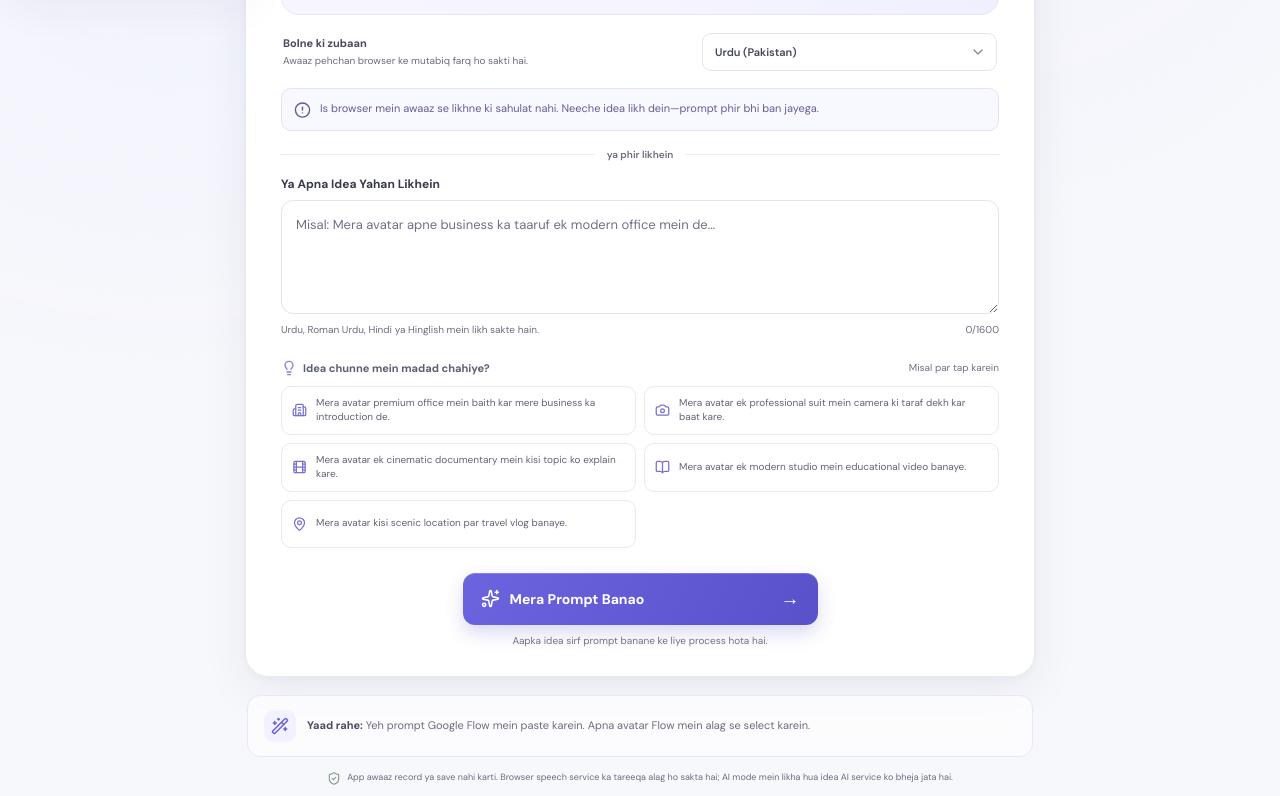
Test case: Flow Prompt Assistant workflow › turns a selected example into one prompt and copies only that prompt
(page scrolled)
Click the button "Mera avatar premium office ".
click(458, 410)  # box [281,386,636,434]
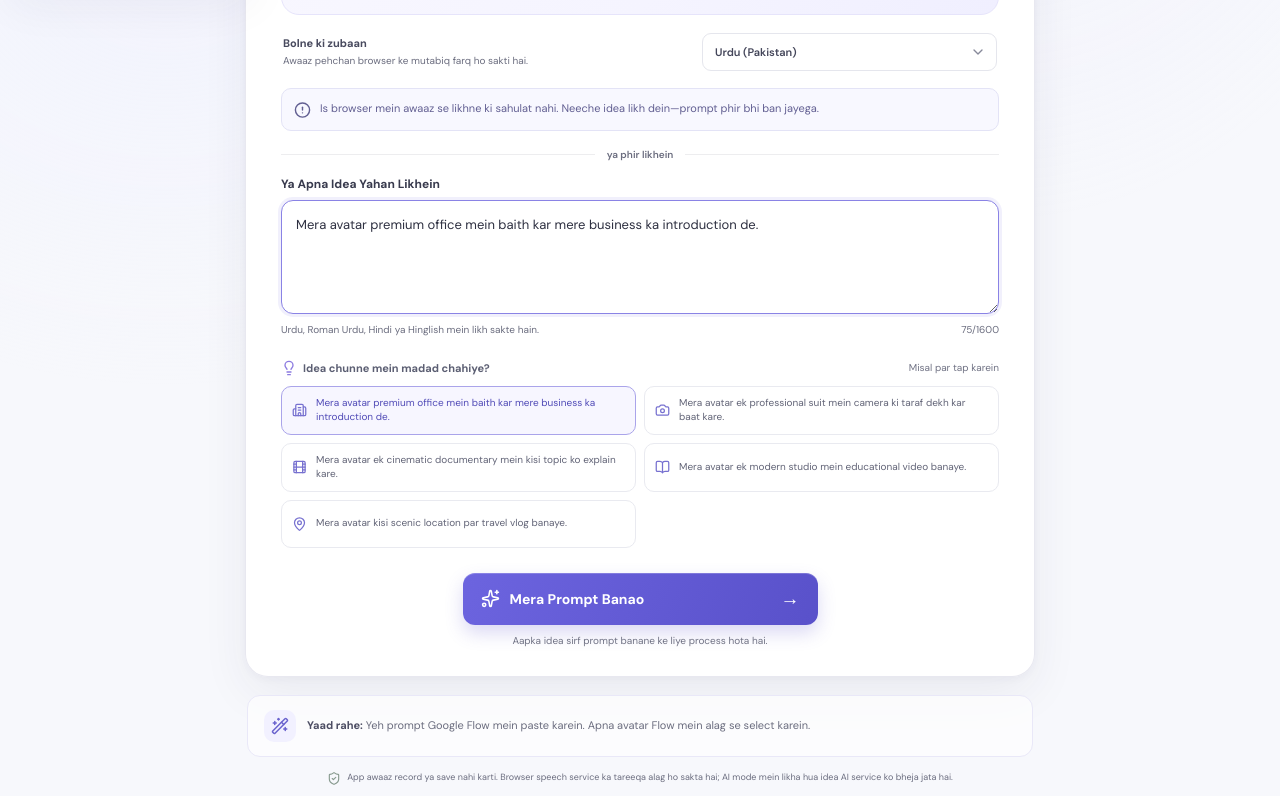
Now the text box labelled "Ya Apna Idea Yahan Likhein" holds "Mera avatar premium office mein baith kar mere business ka introduction de.", box [281,200,999,314]
Click the button "Mera Prompt Banao →".
click(640, 598)  # box [462,572,818,624]
(page scrolled)
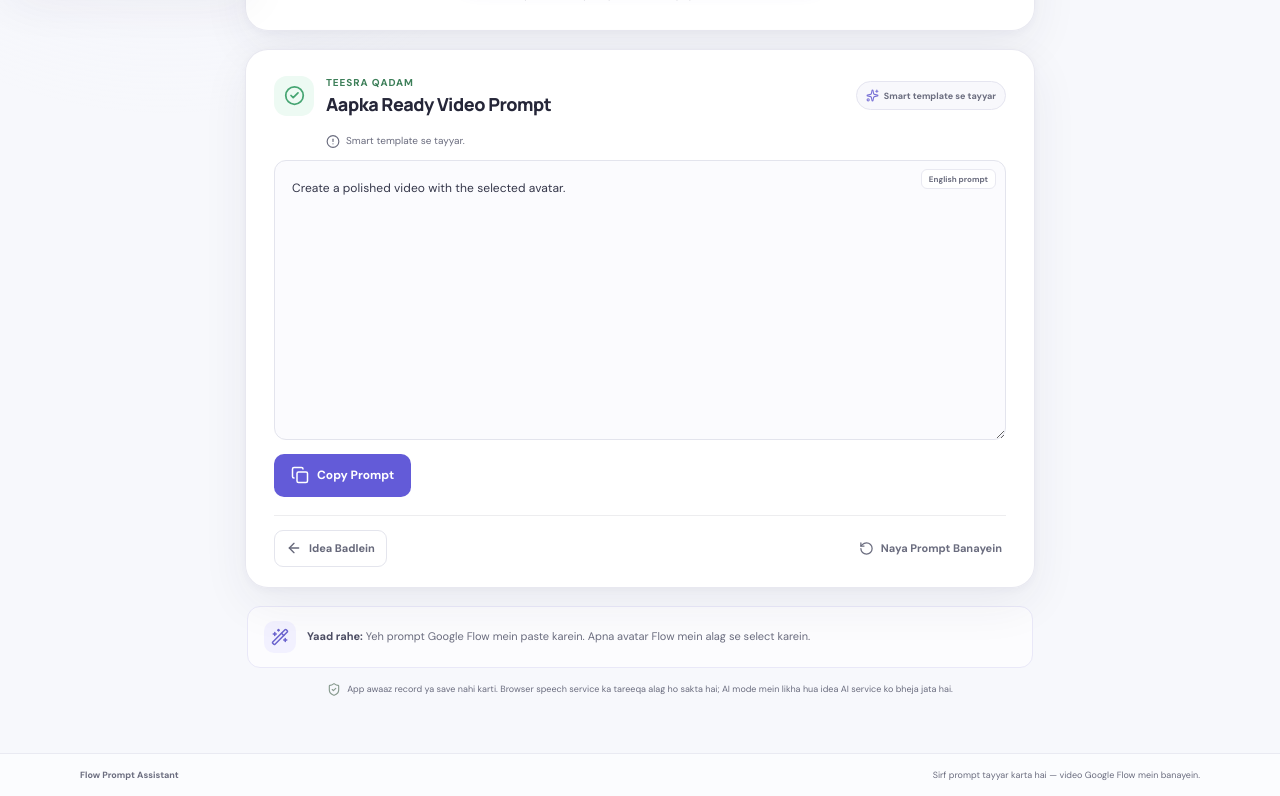
Now the heading "Aapka Ready Video Prompt" is shown, box [326,92,551,116]
Now the text box named "English video prompt" holds "Create a polished video with the selected avatar.", box [274,160,1006,440]
Now the text "Smart template se tayyar" is shown, box [856,81,1006,110]
Click the button "Copy Prompt".
click(343, 475)  # box [274,454,411,497]
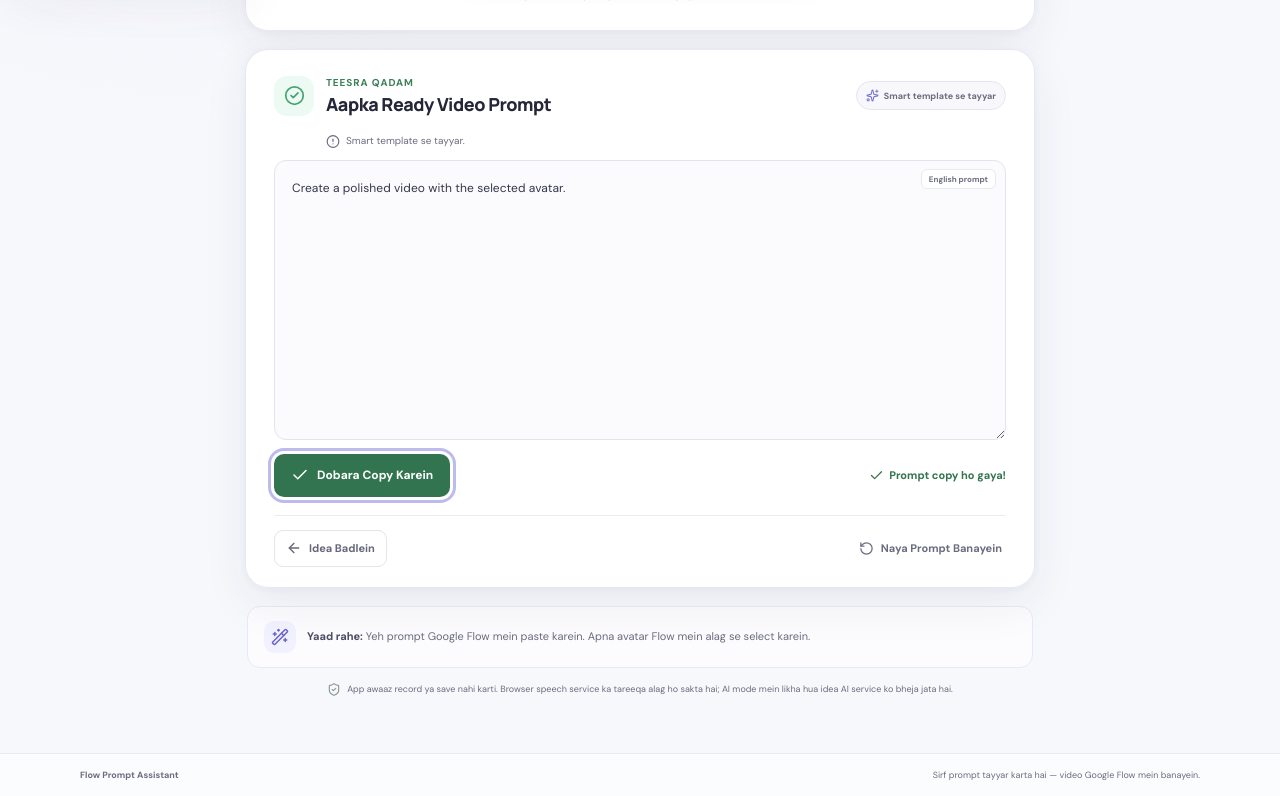
Now the text "Prompt copy ho gaya!" is shown, box [869,468,1006,483]
